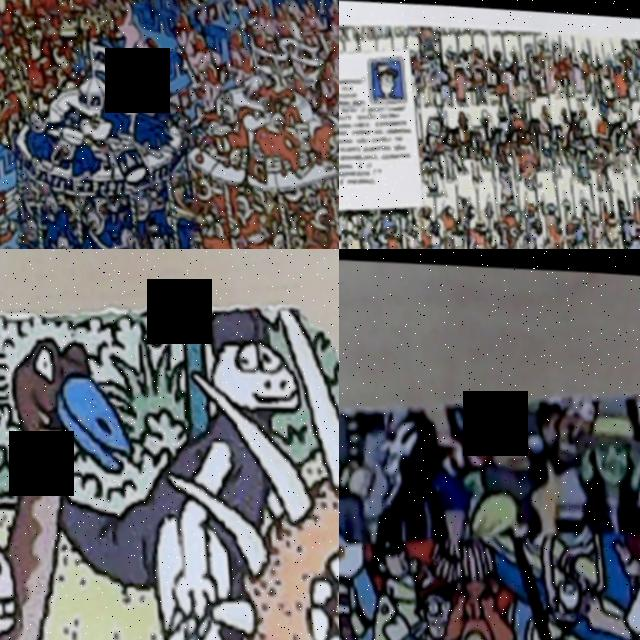waldo: (402, 553, 455, 640), (372, 56, 399, 97)
